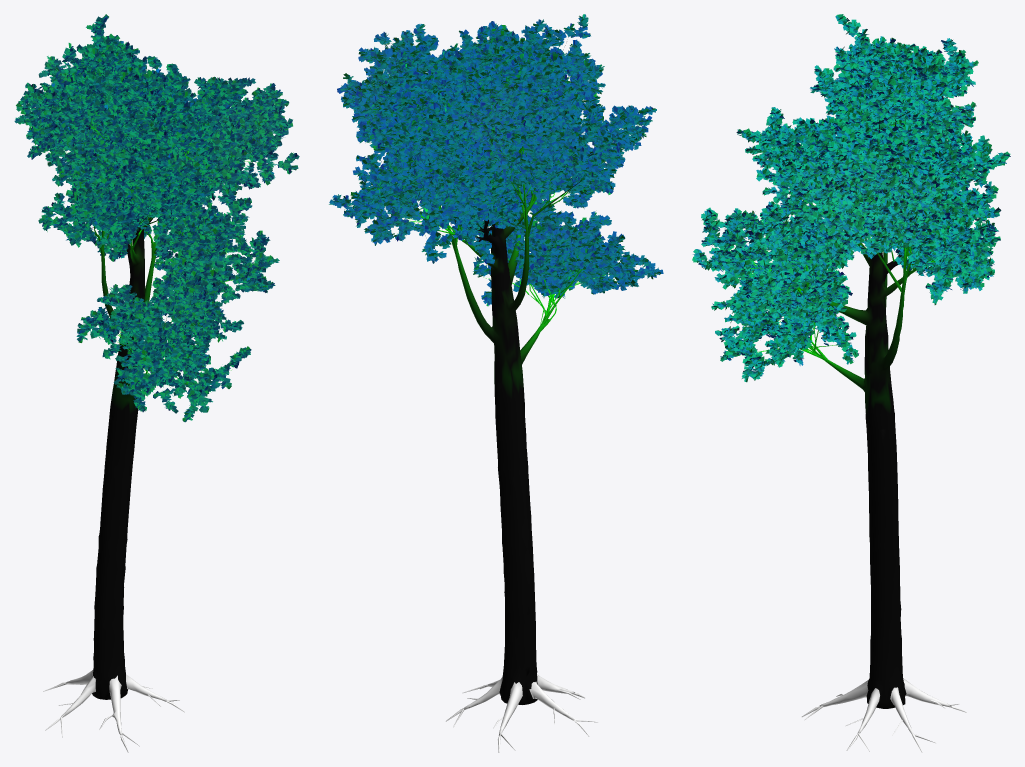
3 renders of one model, left to right at view 1: azimuth 30°, elevation 25°; view 2: azimuth 150°, elevation 25°; view 3: azimuth 270°, elevation 25°, orthographic. The views are drawn at different scales.
Parts seen in each view (by area): view 1: Foliage, Trunk, Roots, Branches, Twigs; view 2: Foliage, Trunk, Branches, Twigs, Roots; view 3: Foliage, Trunk, Branches, Roots, Twigs.
Part boxes in pixels (x1=…): Foliage: x1=14, y1=14, x2=299, y2=422; Trunk: x1=92, y1=230, x2=145, y2=699; Roots: x1=61, y1=670, x2=166, y2=734; Branches: x1=101, y1=217, x2=178, y2=385; Twigs: x1=54, y1=63, x2=274, y2=390; Foliage: x1=329, y1=14, x2=663, y2=306; Trunk: x1=491, y1=224, x2=537, y2=704; Branches: x1=439, y1=185, x2=556, y2=364; Twigs: x1=375, y1=37, x2=637, y2=324; Roots: x1=464, y1=674, x2=574, y2=735; Foliage: x1=692, y1=14, x2=1010, y2=382; Trunk: x1=863, y1=252, x2=906, y2=708; Branches: x1=797, y1=234, x2=912, y2=391; Roots: x1=819, y1=678, x2=951, y2=733; Twigs: x1=712, y1=67, x2=961, y2=362.
Size of the model in its own units: 34487 by 36883 by 89601.
